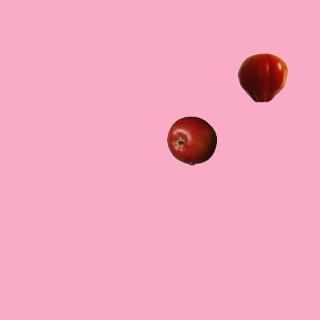Apple Braeburn: (166, 115, 216, 165)
Tomato 1: (237, 52, 287, 102)
